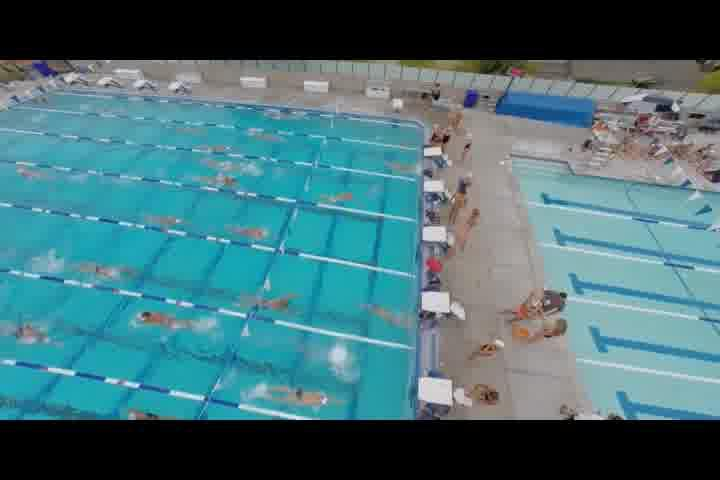human: (134, 308, 214, 332), (254, 392, 333, 404)
